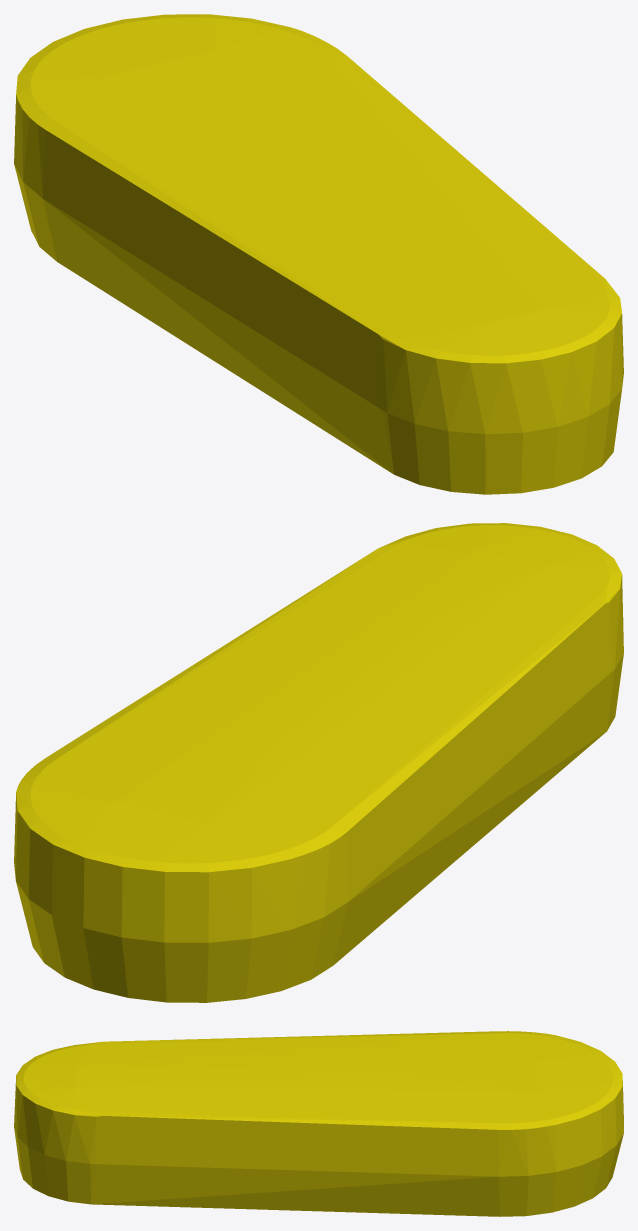
File: arm_link.dae
The picture shows the model from 3 angles, top to bottom: view 1: azimuth 30°, elevation 25°; view 2: azimuth 150°, elevation 25°; view 3: azimuth 270°, elevation 25°; orthographic projection. The views are drawn at different scales.
Parts seen in each view (by area): view 1: node; view 2: node; view 3: node.
Boxes of the visible parts, x1,y1,x2,y2 form: node: (14, 14, 623, 494); node: (14, 523, 623, 1002); node: (14, 1031, 623, 1216).
Size of the model in its own units: 0.4973 by 0.2215 by 1.28.
